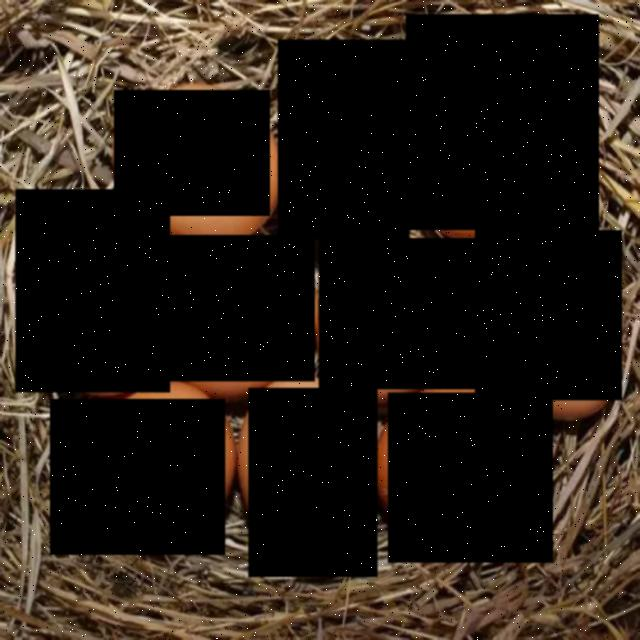Egg: (407, 15, 600, 231), (16, 191, 171, 394), (388, 393, 553, 563), (50, 401, 225, 556), (278, 40, 409, 240), (476, 232, 623, 402), (250, 389, 378, 578), (319, 238, 475, 390), (156, 236, 315, 382), (115, 91, 271, 217)
